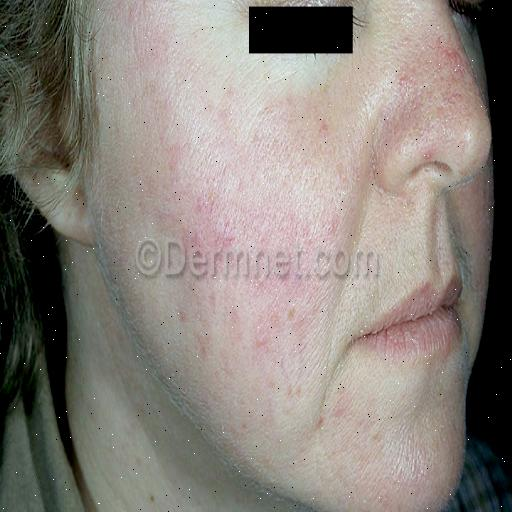Skin_Lesion: (180, 198, 242, 256), (281, 289, 308, 334), (434, 40, 458, 82), (72, 180, 92, 224), (224, 283, 244, 326), (332, 382, 352, 422), (202, 276, 221, 314), (196, 330, 212, 368), (254, 330, 270, 364), (382, 112, 400, 142), (125, 0, 144, 22), (324, 214, 340, 240), (176, 302, 190, 328), (422, 139, 440, 159), (394, 65, 412, 85), (318, 120, 332, 138), (224, 87, 236, 101)
